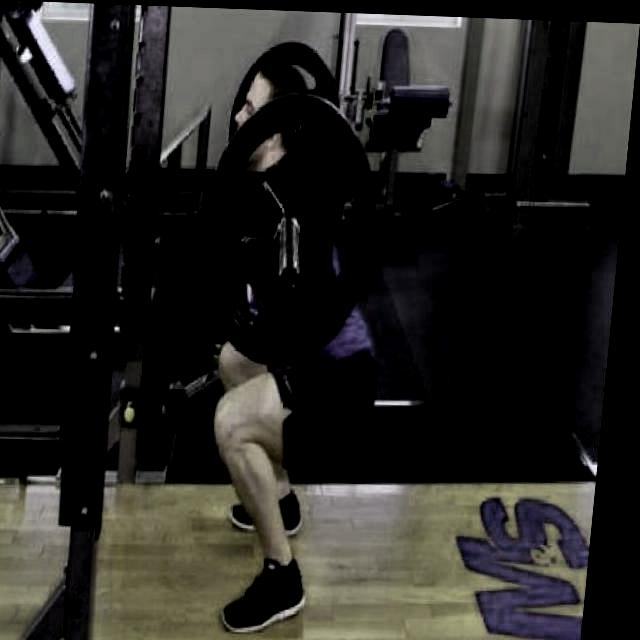barbell: (192, 83, 399, 372)
